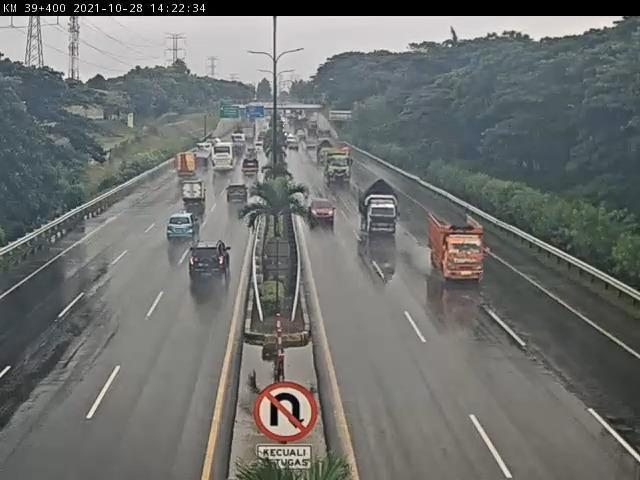bus: (211, 143, 239, 171)
car: (187, 240, 231, 279), (168, 212, 203, 242), (309, 197, 338, 227), (181, 181, 207, 206), (226, 183, 250, 205)
truck: (427, 210, 487, 285), (357, 177, 398, 235), (324, 149, 355, 186), (176, 153, 199, 178), (243, 161, 260, 178)
